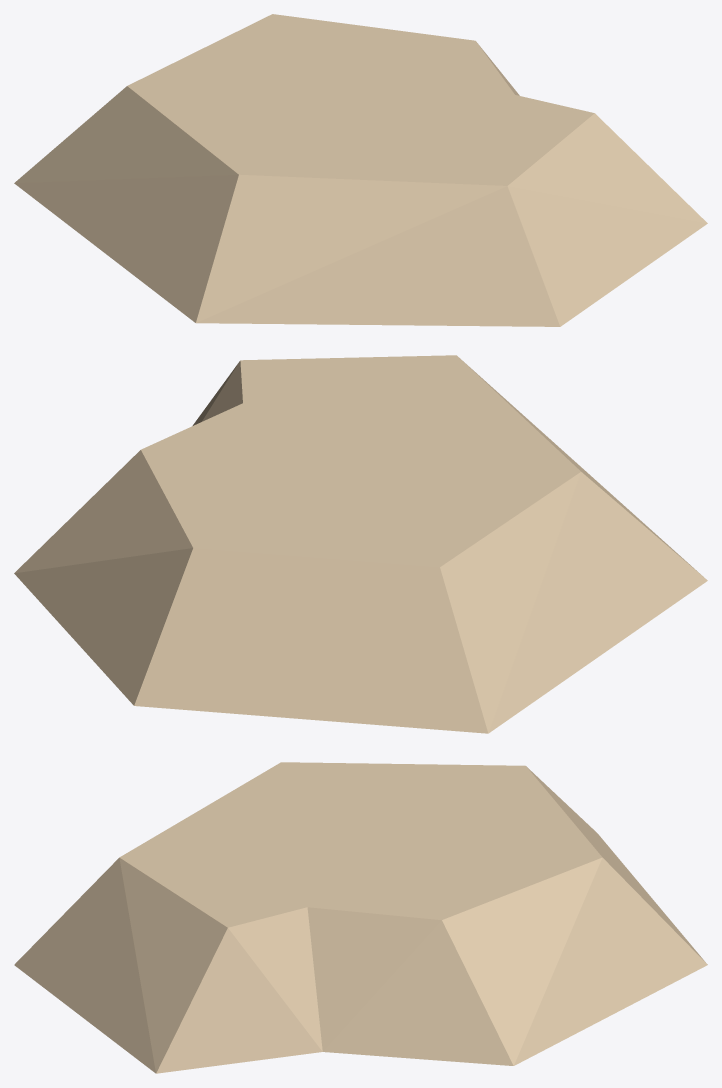
Rendered from SM_Env_Pebble_04.fbx.
3 renders of one model, top to bottom at view 1: azimuth 30°, elevation 25°; view 2: azimuth 150°, elevation 25°; view 3: azimuth 270°, elevation 25°, orthographic. The views are drawn at different scales.
Visible parts, largest first — view 1: SM_Env_Pebble_04; view 2: SM_Env_Pebble_04; view 3: SM_Env_Pebble_04.
Part boxes in pixels (box(x1,y1,x2,y2)): SM_Env_Pebble_04: box(14, 14, 707, 326); SM_Env_Pebble_04: box(14, 355, 707, 733); SM_Env_Pebble_04: box(14, 762, 707, 1073).
Bounding box in the file's own units: 0.000901 × 0.000184 × 0.00108.
1 material, 1 textured.
